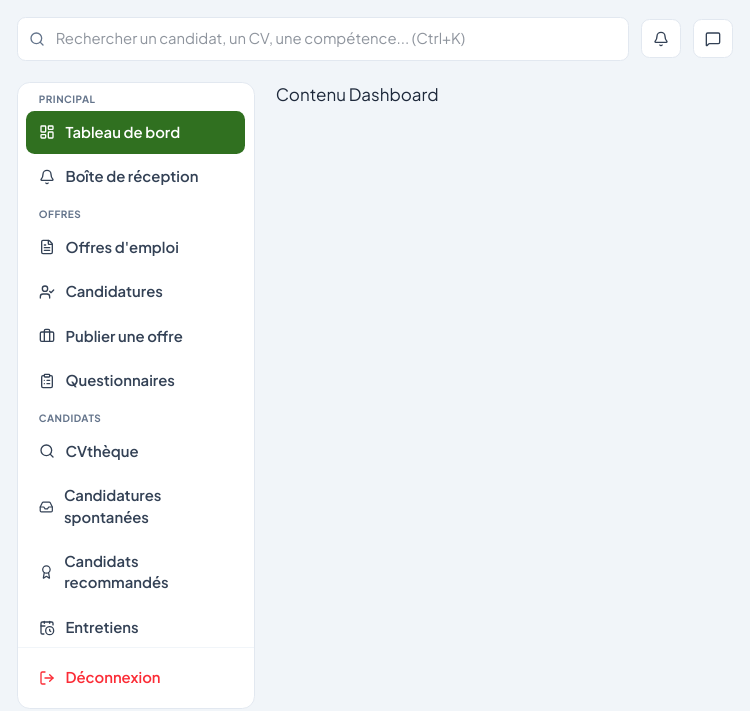
🏢 RecruteurLayout — sidebar recruteur › 🟢 HP7 : Ctrl+K + Entrée navigue vers /cvtheque?search=<terme>
The width and height of the screenshot is (750, 711).
Type "développeur react" into the field with placeholder "Rechercher un candidat, un CV, une compétence... (Ctrl+K)" at (322, 39), box [16,16,628,61]
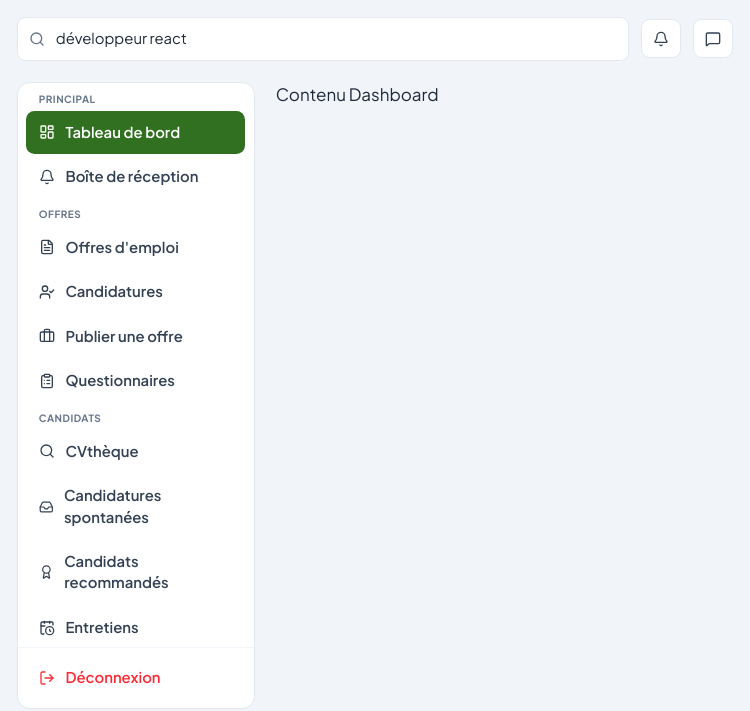
Press Enter in the field with placeholder "Rechercher un candidat, un CV, une compétence... (Ctrl+K)", box [16,16,628,61]
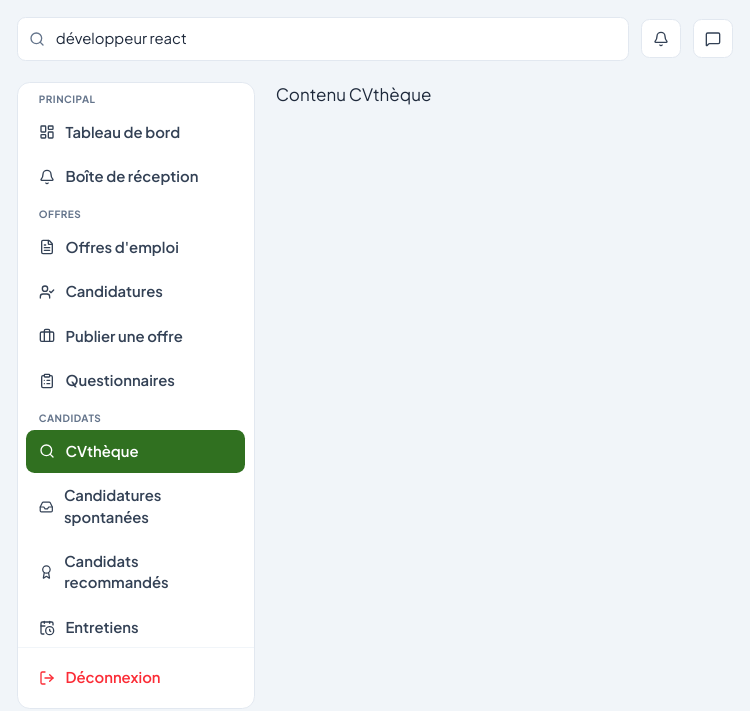
Expected: the text "Contenu CVthèque" is shown, [276,83,431,105]
